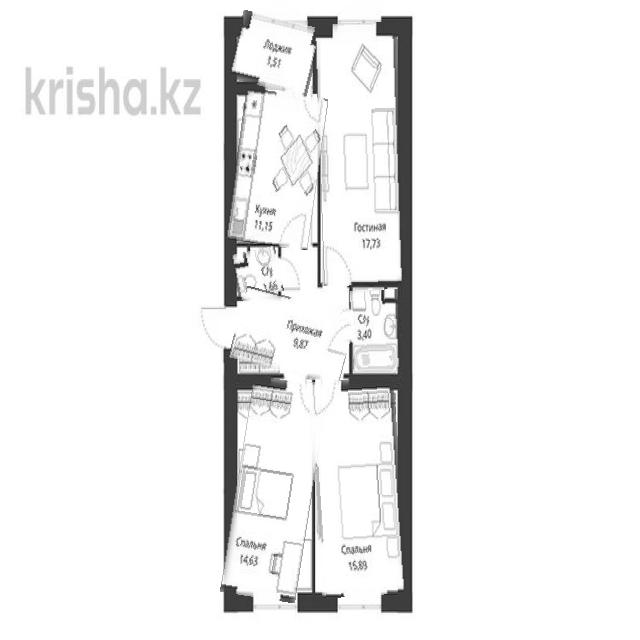balcony: (231, 15, 319, 93)
bathroom: (350, 289, 402, 369), (232, 248, 282, 298)
hallway: (232, 292, 354, 380)
kitchen: (230, 89, 323, 248)
living_room: (318, 22, 404, 286), (229, 378, 321, 601), (312, 378, 405, 597)
